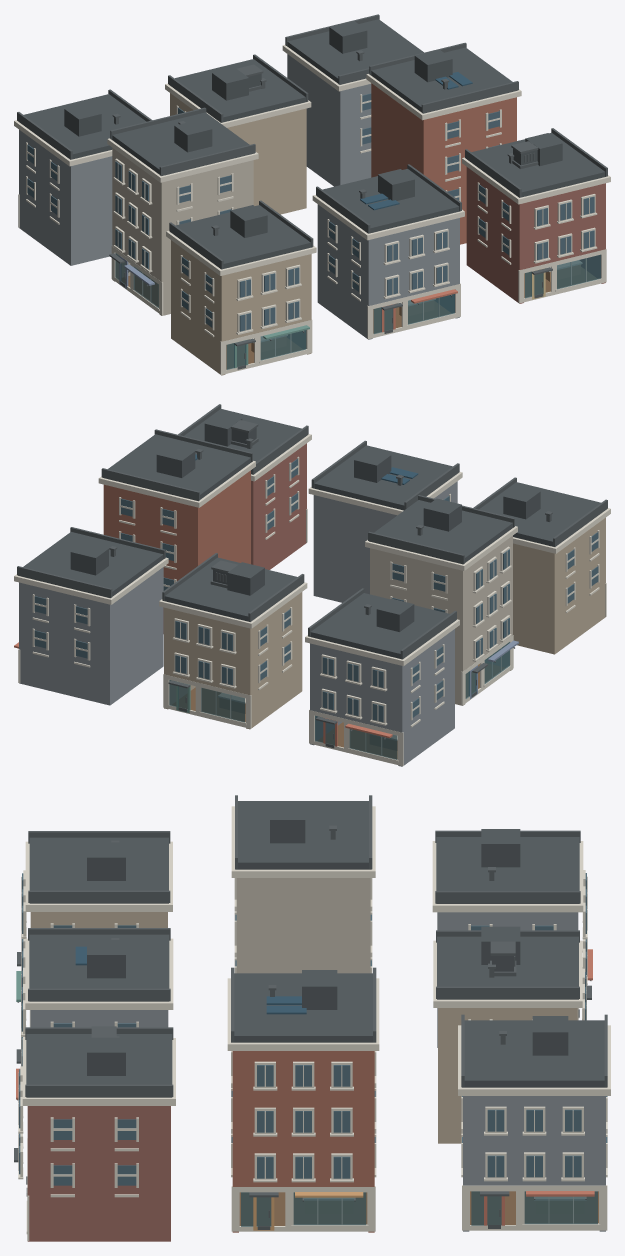
File: downtown-block-p0-m2.glb
The picture shows the model from 3 angles, top to bottom: view 1: azimuth 30°, elevation 25°; view 2: azimuth 150°, elevation 25°; view 3: azimuth 270°, elevation 25°; orthographic projection. The views are drawn at different scales.
Visible parts, largest first — view 1: urban_townhouse_12.003, urban_townhouse_11.005, urban_townhouse_13.006, urban_townhouse_14.006, urban_townhouse_00.006, urban_townhouse_02.001, urban_townhouse_02.005, urban_townhouse_01.005; view 2: urban_townhouse_02.005, urban_townhouse_02.001, urban_townhouse_01.005, urban_townhouse_14.006, urban_townhouse_00.006, urban_townhouse_11.005, urban_townhouse_12.003, urban_townhouse_13.006; view 3: urban_townhouse_00.006, urban_townhouse_13.006, urban_townhouse_02.005, urban_townhouse_14.006, urban_townhouse_01.005, urban_townhouse_02.001, urban_townhouse_12.003, urban_townhouse_11.005.
Boxes of the visible parts, <box> form: urban_townhouse_12.003: <box>312,164,464,339</box>; urban_townhouse_11.005: <box>166,200,316,375</box>; urban_townhouse_13.006: <box>462,128,610,303</box>; urban_townhouse_14.006: <box>107,107,258,315</box>; urban_townhouse_00.006: <box>366,42,521,244</box>; urban_townhouse_02.001: <box>14,89,152,265</box>; urban_townhouse_02.005: <box>282,14,423,186</box>; urban_townhouse_01.005: <box>165,54,311,214</box>; urban_townhouse_02.005: <box>14,527,168,705</box>; urban_townhouse_02.001: <box>305,588,459,766</box>; urban_townhouse_01.005: <box>159,553,307,729</box>; urban_townhouse_14.006: <box>365,495,518,705</box>; urban_townhouse_00.006: <box>98,429,255,633</box>; urban_townhouse_11.005: <box>473,477,610,654</box>; urban_townhouse_12.003: <box>308,440,462,602</box>; urban_townhouse_13.006: <box>178,404,311,569</box>; urban_townhouse_00.006: <box>227,967,379,1232</box>; urban_townhouse_13.006: <box>14,1026,175,1241</box>; urban_townhouse_02.005: <box>458,1014,610,1231</box>; urban_townhouse_14.006: <box>231,795,375,973</box>; urban_townhouse_01.005: <box>433,926,586,1143</box>; urban_townhouse_02.001: <box>432,829,592,1047</box>; urban_townhouse_12.003: <box>16,928,173,1100</box>; urban_townhouse_11.005: <box>16,831,172,1026</box>.
Bounding box in the file's own units: 34.38 × 13.69 × 33.6.
